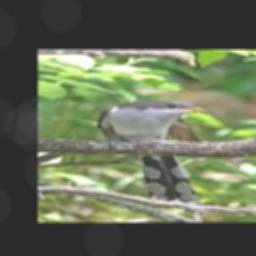Cuckoo: (96, 98, 217, 203)
